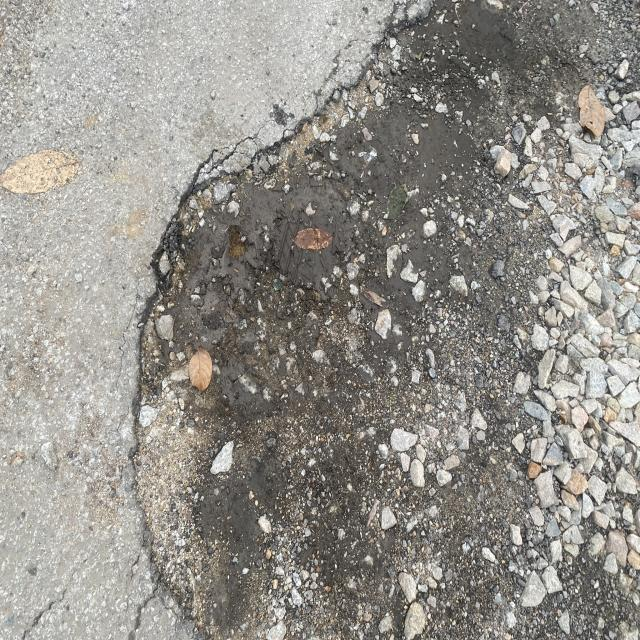Pothole: (88, 88, 377, 640)
